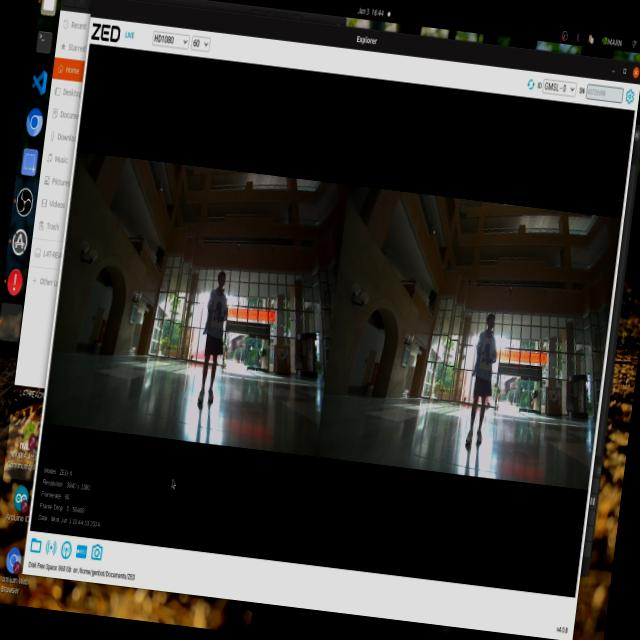blue: (208, 294, 227, 328), (475, 340, 496, 366)
